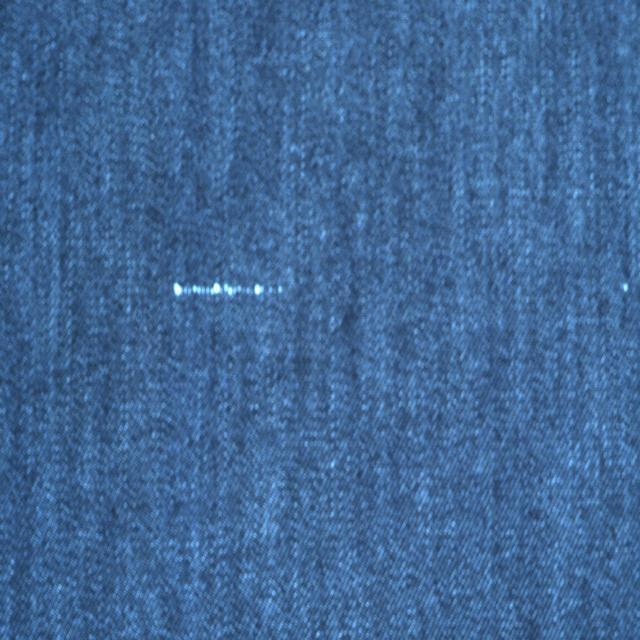pulled_or_thick_thread: (170, 282, 284, 296)
